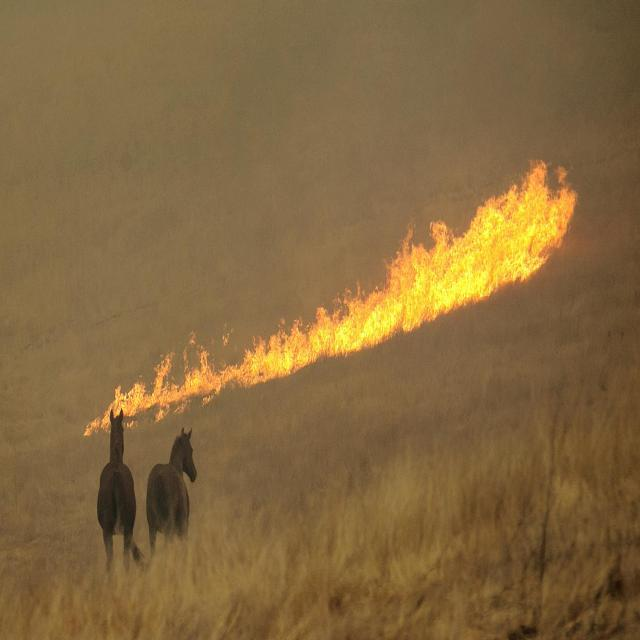Fire: (352, 175, 578, 318), (102, 306, 348, 409)
Smoke: (11, 29, 317, 280), (363, 370, 640, 586), (347, 32, 640, 156)
